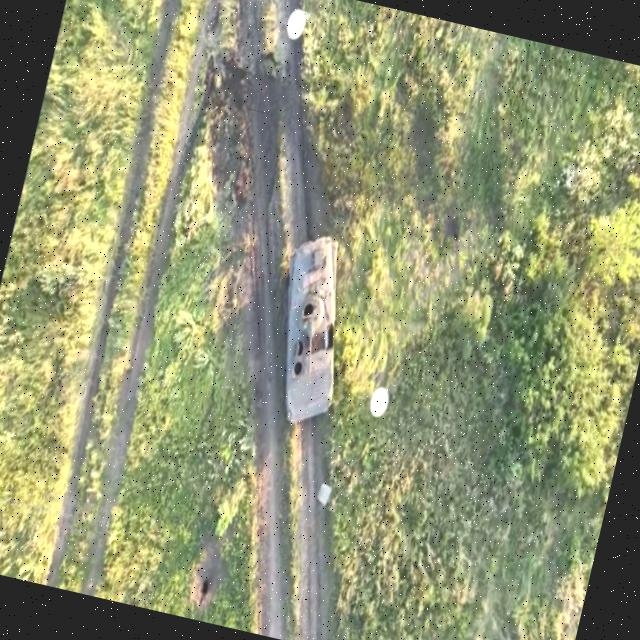AIFV: (253, 216, 374, 436)
